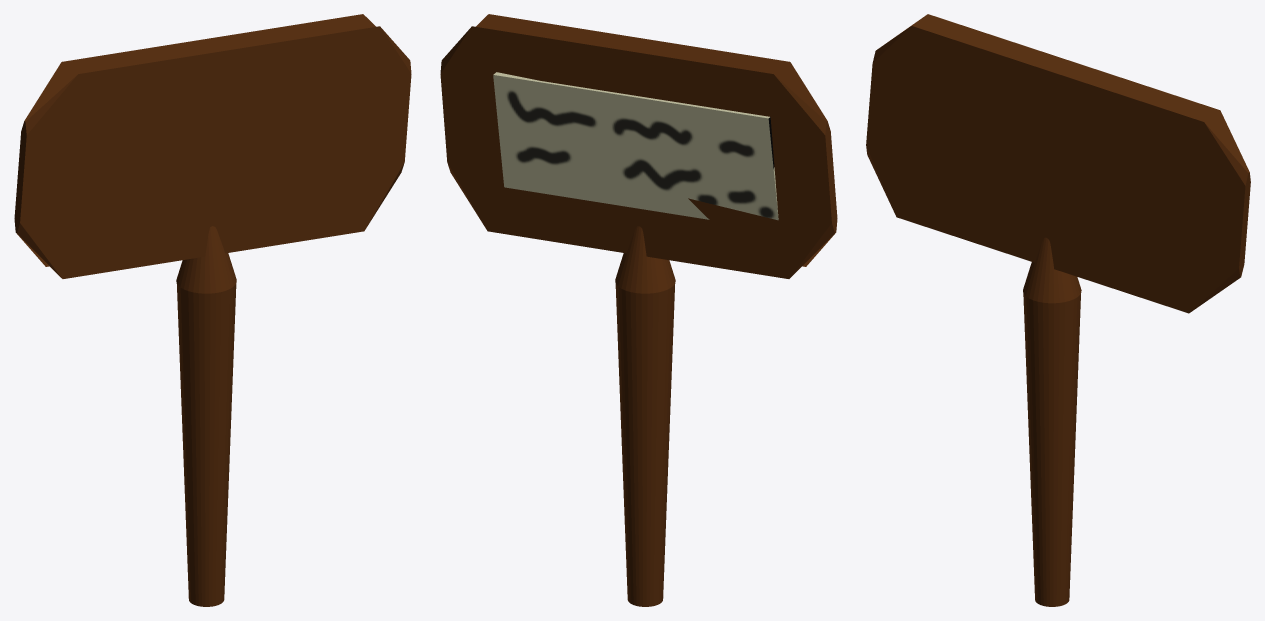
The model's file is sign.fbx.
3 views of the same model, side by side, from view 1: azimuth 30°, elevation 25°; view 2: azimuth 150°, elevation 25°; view 3: azimuth 330°, elevation 25° (orthographic). The views are drawn at different scales.
Visible parts, largest first — view 1: Sign; view 2: Sign; view 3: Sign.
Boxes of the visible parts, left/top/right/bottom form: Sign: left=14, top=14, right=411, bottom=606; Sign: left=440, top=14, right=837, bottom=606; Sign: left=866, top=14, right=1250, bottom=606.
Size of the model in its own units: 218 by 299 by 29.09.
